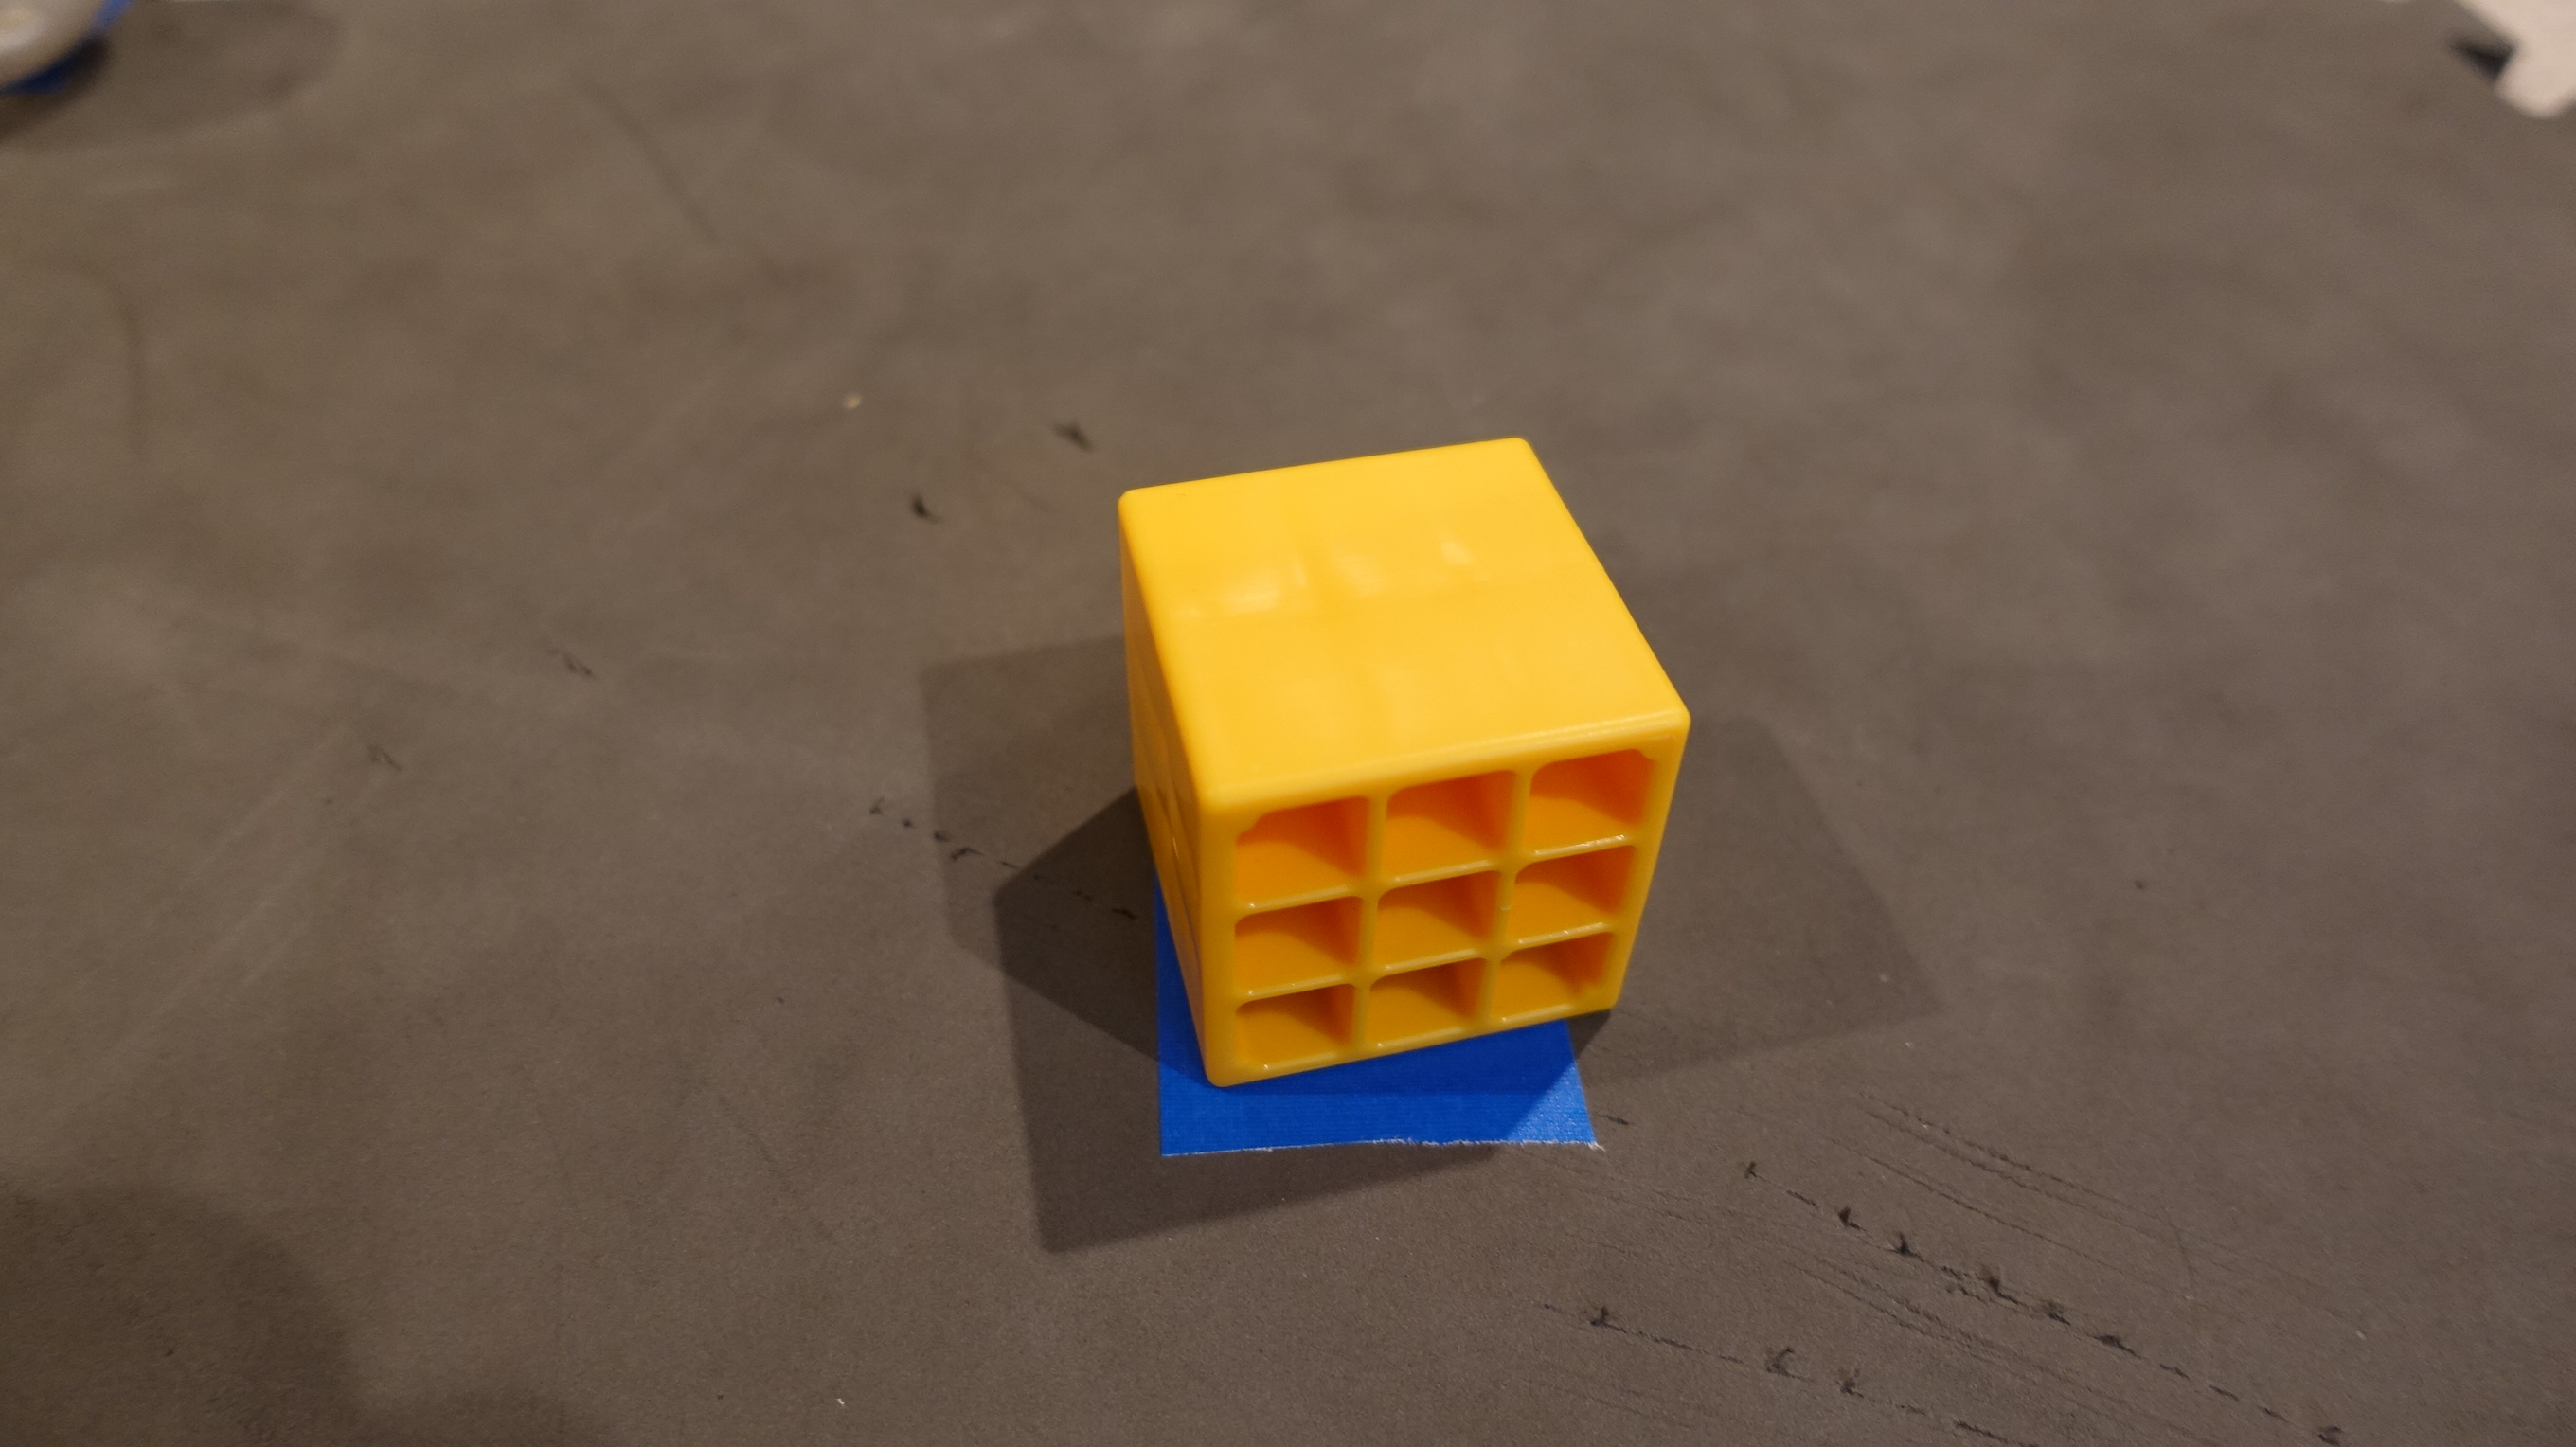gold: (1111, 425, 1702, 1095)
